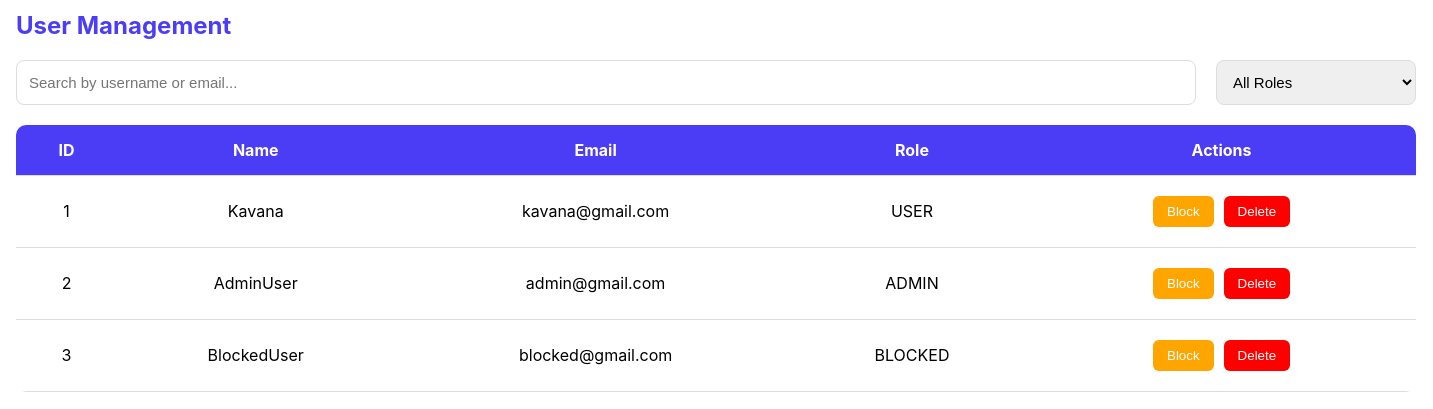
Test: UserManagement Component › filters users using role dropdown
Check: the text "AdminUser" is shown, box [117,247,394,319]
Select "ADMIN" in the dropdown at (1316, 82), box [1216,60,1416,105]
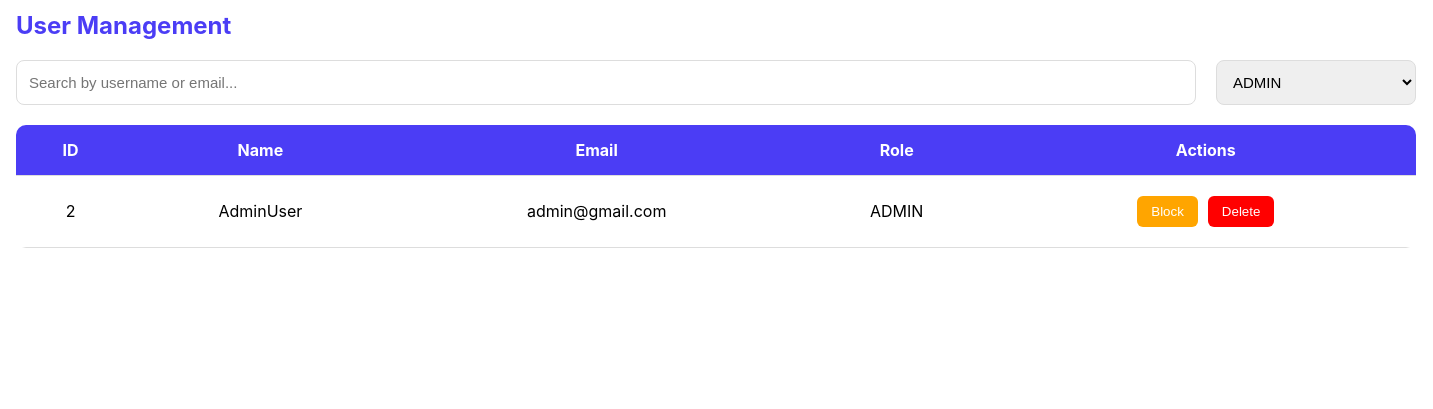
Check: the text "AdminUser" is shown, box [125,175,396,247]
Check: the text "Kavana" is gone
